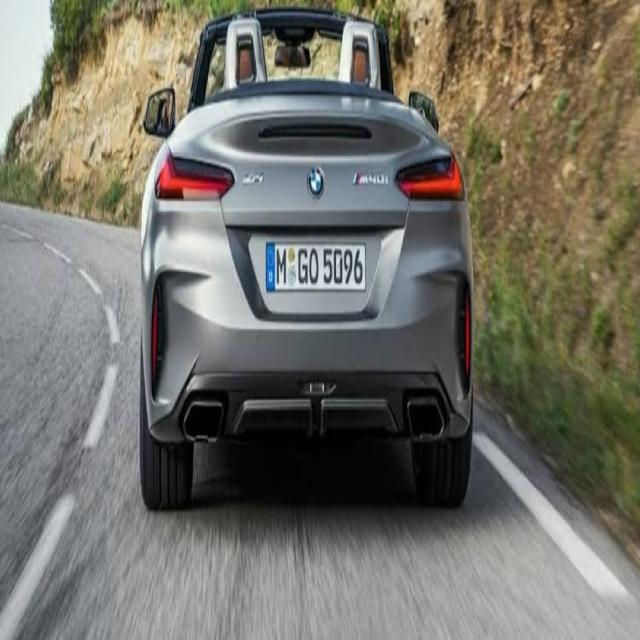Number-Plate: (267, 238, 363, 291)
